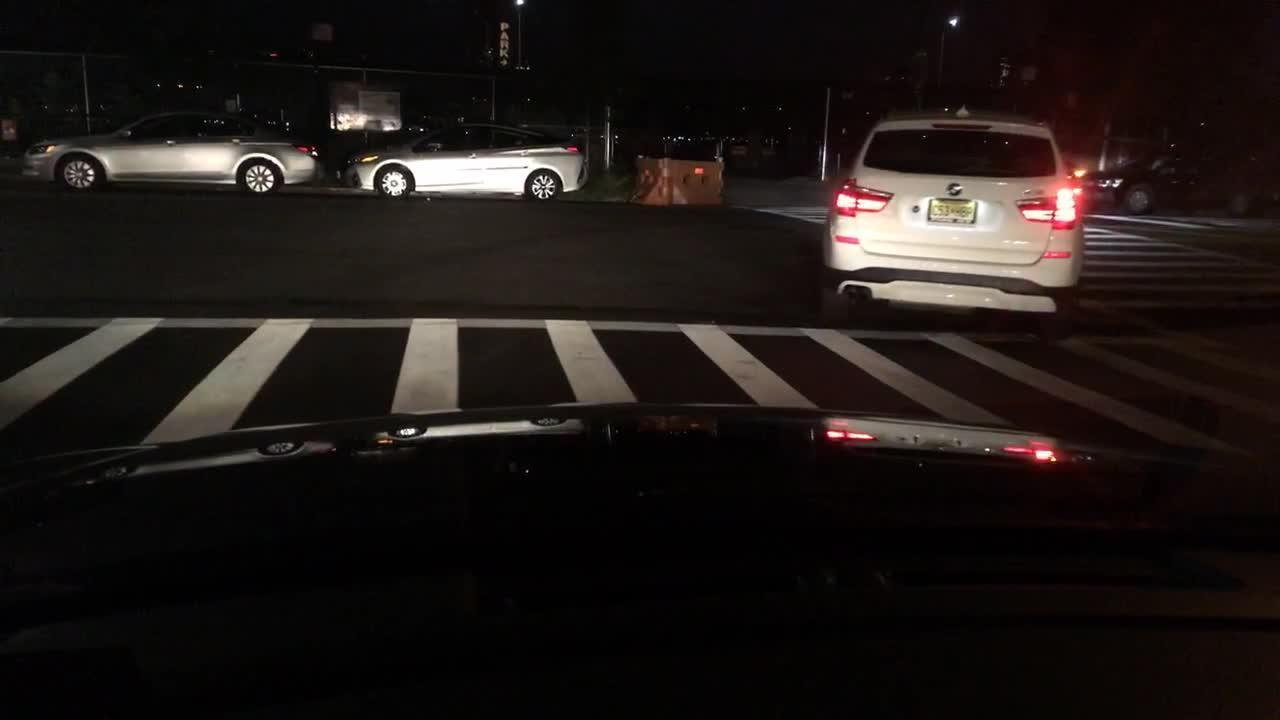bmw: (946, 177, 970, 200)
